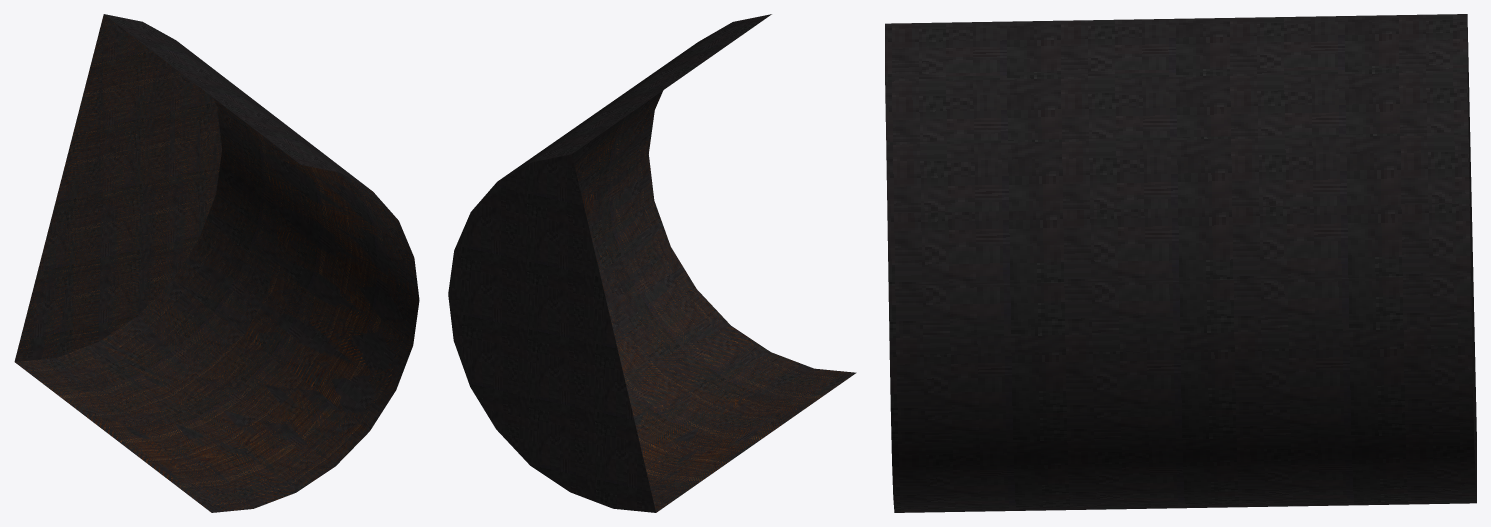
Rendered from original-242.obj.
3 renders of one model, left to right at view 1: azimuth 30°, elevation 25°; view 2: azimuth 150°, elevation 25°; view 3: azimuth 270°, elevation 25°, orthographic. The views are drawn at different scales.
Parts seen in each view (by area): view 1: Group9/mesh100/mesh100-geometry/material_1/component_50#mesh100-; view 2: Group9/mesh100/mesh100-geometry/material_1/component_50#mesh100-; view 3: Group9/mesh100/mesh100-geometry/material_1/component_50#mesh100-.
Boxes of the visible parts, x1=… form: Group9/mesh100/mesh100-geometry/material_1/component_50#mesh100-: x1=14, y1=14, x2=419, y2=512; Group9/mesh100/mesh100-geometry/material_1/component_50#mesh100-: x1=448, y1=14, x2=856, y2=512; Group9/mesh100/mesh100-geometry/material_1/component_50#mesh100-: x1=885, y1=14, x2=1476, y2=512.
Bounding box in the file's own units: 0.0197 × 0.0312 × 0.0332.
